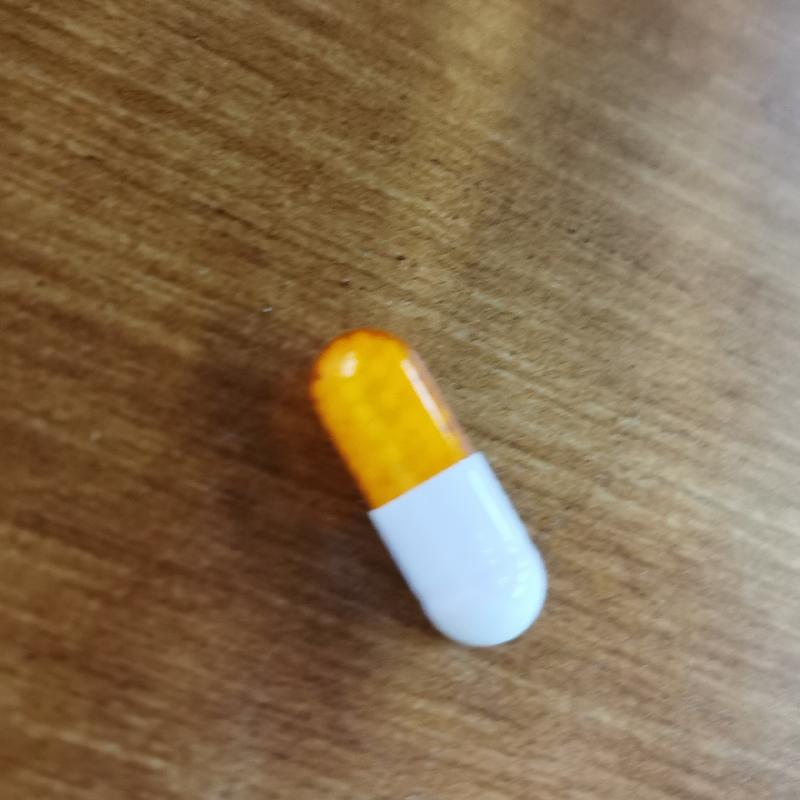pills: (294, 328, 580, 664)
